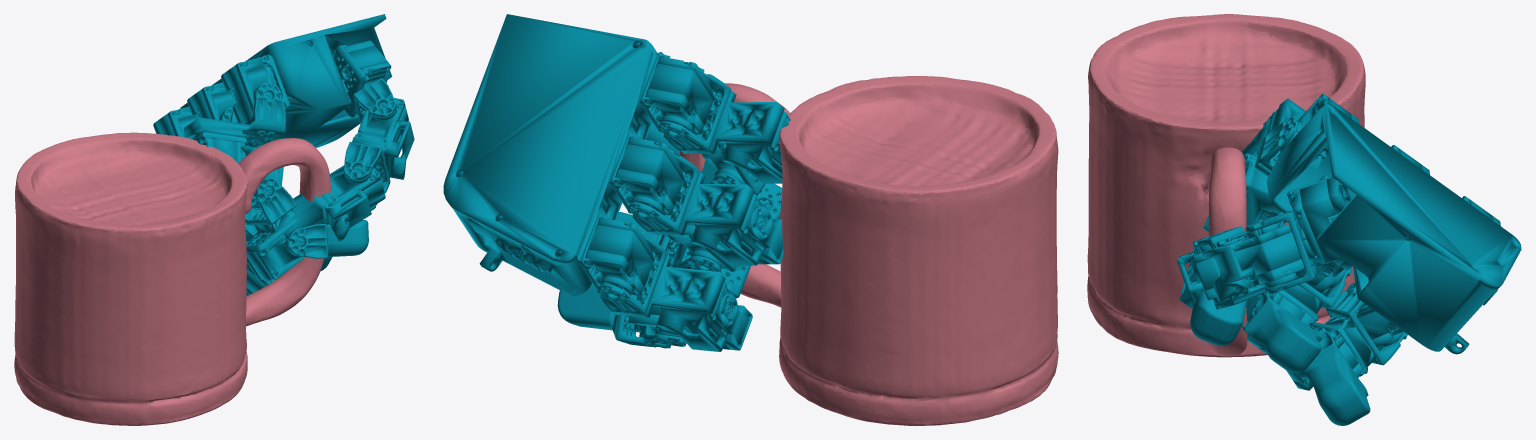
3 views of the same model, side by side, from view 1: azimuth 30°, elevation 25°; view 2: azimuth 150°, elevation 25°; view 3: azimuth 270°, elevation 25° (orthographic). The views are drawn at different scales.
Parts seen in each view (by area): view 1: world; view 2: world; view 3: world.
Boxes of the visible parts, x1=… form: world: x1=14, y1=14, x2=414, y2=425; world: x1=443, y1=14, x2=1058, y2=425; world: x1=1087, y1=14, x2=1521, y2=425.
Bounding box in the file's own units: 0.269 × 0.1676 × 0.2114.
